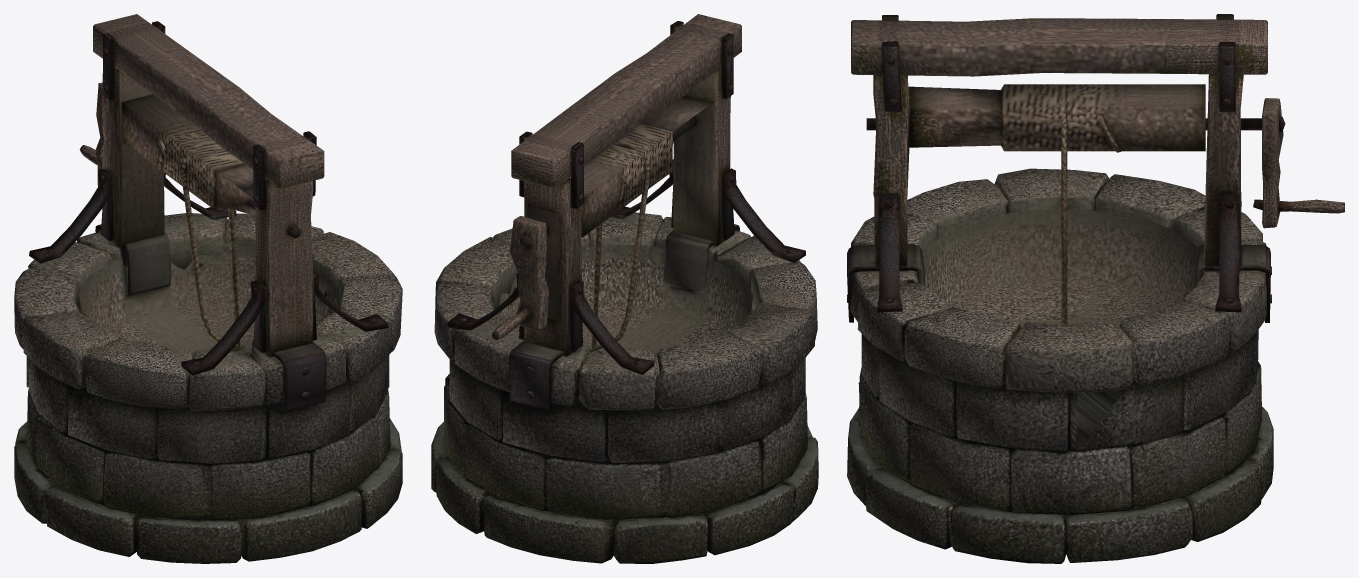
File: tripo_convert_1b3f9a3c-d6b7-4b69-8c80-0857f37e890c.fbx
3 views of the same model, side by side, from view 1: azimuth 30°, elevation 25°; view 2: azimuth 150°, elevation 25°; view 3: azimuth 270°, elevation 25° (orthographic). The views are drawn at different scales.
Visible parts, largest first — view 1: tripo_node_1b3f9a3c; view 2: tripo_node_1b3f9a3c; view 3: tripo_node_1b3f9a3c.
Boxes of the visible parts, left/top/right/bottom form: tripo_node_1b3f9a3c: left=14, top=14, right=402, bottom=563; tripo_node_1b3f9a3c: left=431, top=14, right=818, bottom=563; tripo_node_1b3f9a3c: left=847, top=14, right=1344, bottom=563.
Size of the model in its own units: 0.8691 by 0.9941 by 0.998.
Materials: 1 (1 with a texture image).
